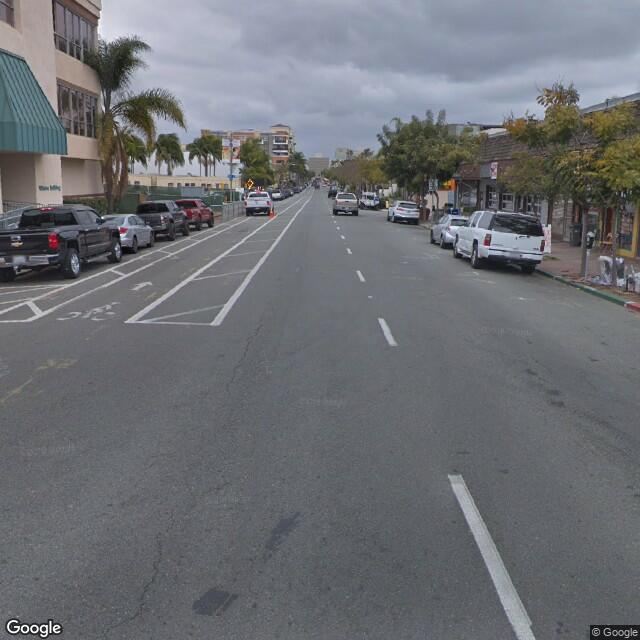road line: (415, 434, 552, 640), (127, 255, 265, 323), (339, 227, 404, 359)
